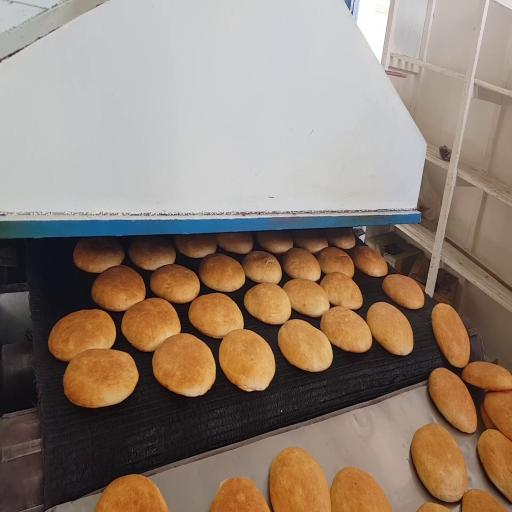bread: (411, 424, 467, 502), (63, 349, 138, 407), (152, 334, 215, 396), (270, 448, 331, 511), (48, 310, 116, 361), (219, 330, 275, 391), (429, 368, 477, 433), (122, 298, 180, 351), (278, 320, 332, 372), (331, 467, 392, 511), (95, 475, 168, 511), (367, 302, 413, 355), (432, 303, 470, 367), (189, 293, 243, 338), (92, 266, 145, 311), (321, 307, 372, 353), (478, 430, 511, 501), (210, 478, 269, 511), (244, 283, 291, 324), (150, 265, 199, 303), (74, 238, 124, 273), (199, 254, 245, 292), (283, 279, 329, 317), (129, 236, 175, 270), (321, 272, 362, 310), (462, 361, 511, 391), (383, 275, 424, 309), (484, 391, 511, 440), (283, 248, 321, 281), (242, 251, 281, 283), (316, 247, 354, 277), (353, 246, 387, 276), (174, 234, 216, 258), (462, 489, 506, 511), (216, 232, 254, 255), (257, 231, 293, 254), (293, 230, 328, 253), (327, 228, 355, 249), (480, 402, 496, 429), (417, 503, 449, 511)
